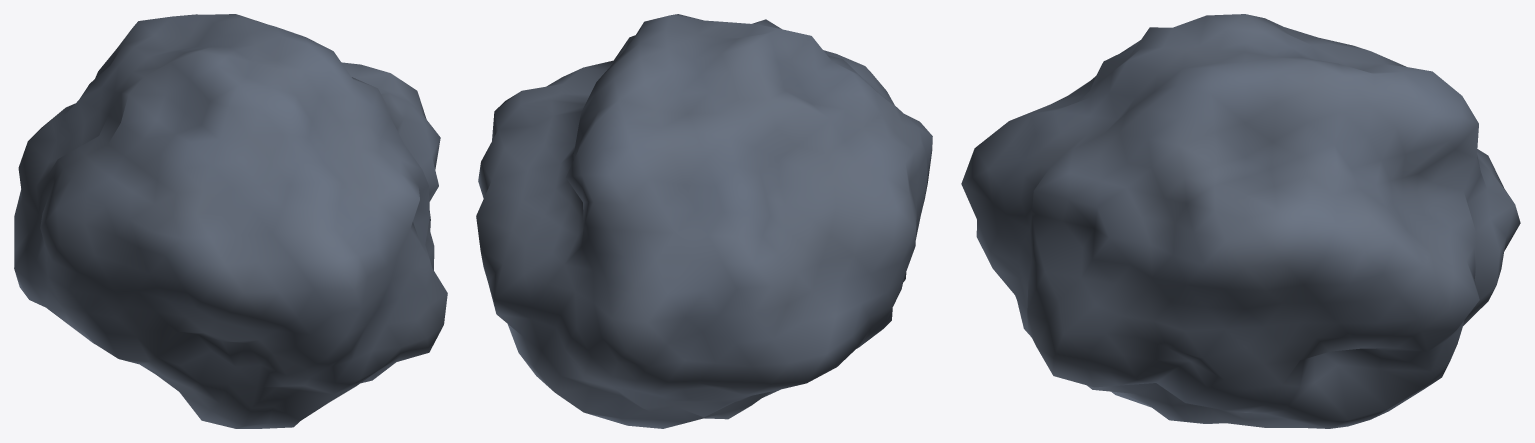
The model's file is asteroid_02.glb.
The picture shows the model from 3 angles, left to right: view 1: azimuth 30°, elevation 25°; view 2: azimuth 150°, elevation 25°; view 3: azimuth 270°, elevation 25°; orthographic projection. The views are drawn at different scales.
Visible parts, largest first — view 1: Asteroid_02; view 2: Asteroid_02; view 3: Asteroid_02.
Part boxes in pixels (bbox=[...]): Asteroid_02: bbox=[14, 14, 447, 428]; Asteroid_02: bbox=[476, 14, 932, 428]; Asteroid_02: bbox=[961, 14, 1520, 428].
Size of the model in its own units: 2.08 by 1.89 by 2.49.
